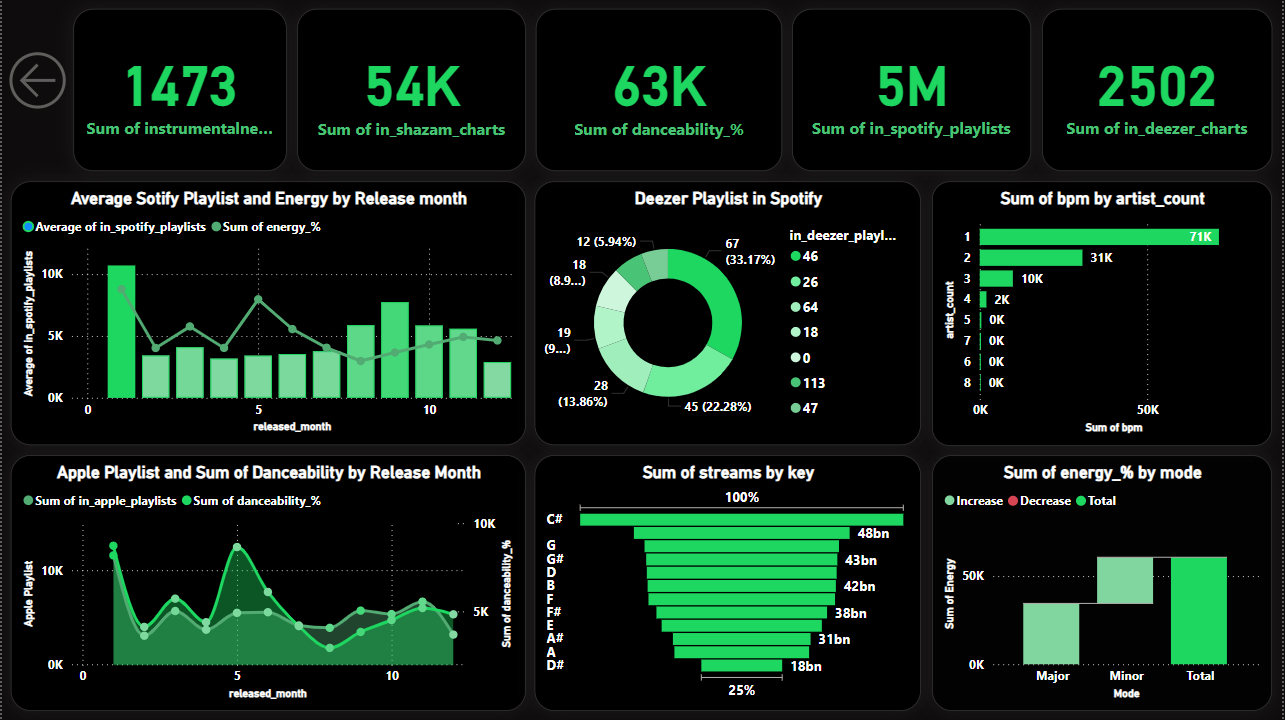

This screenshot's page, from the dashboard's own definition file:
{"tool":"powerbi","page":{"name":"Page 1","canvas":[1280,720],"ordinal":1},"visuals":[{"type":"lineStackedColumnComboChart","title":"Average Sotify Playlist and Energy by Release month","fields":{"Category":["spotify-2023.released_month"],"Y":["Avg(spotify-2023.in_spotify_playlists)"],"Y2":["Sum(spotify-2023.energy_%)"]},"box":[8.8,181.2,515,263.8],"z":0},{"type":"areaChart","title":"Apple Playlist and Sum of Danceability by Release Month","fields":{"Y":["Sum(spotify-2023.in_apple_playlists)"],"Y2":["Sum(spotify-2023.danceability_%)"],"Category":["spotify-2023.released_month"]},"box":[8.8,455,515,256.2],"z":1000},{"type":"waterfallChart","fields":{"Category":["spotify-2023.mode"],"Y":["Sum(spotify-2023.energy_%)"]},"box":[930,455,340,256.2],"z":2000},{"type":"funnel","fields":{"Category":["spotify-2023.key"],"Y":["Sum(spotify-2023.streams)"]},"box":[532.5,455,386.2,256.2],"z":3000},{"type":"donutChart","title":"Deezer Playlist in Spotify","fields":{"Category":["spotify-2023.in_deezer_playlists","spotify-2023.in_spotify_charts"],"Y":["Sum(spotify-2023.in_apple_playlists)"]},"box":[532.9,180.8,386.3,264.4],"z":4000},{"type":"barChart","fields":{"Y":["Sum(spotify-2023.bpm)"],"Category":["spotify-2023.artist_count"]},"box":[930,181.1,340,264.4],"z":4001},{"type":"card","fields":{"Values":["Sum(spotify-2023.danceability_%)"]},"box":[533.3,8.9,246.7,162.2],"z":4002},{"type":"card","fields":{"Values":["Sum(spotify-2023.in_spotify_playlists)"]},"box":[790,8.9,238.9,162.2],"z":4003},{"type":"card","fields":{"Values":["Sum(spotify-2023.in_deezer_charts)"]},"box":[1040,8.9,230,162.2],"z":4004},{"type":"card","fields":{"Values":["Sum(spotify-2023.in_shazam_charts)"]},"box":[294.4,8.9,228.9,162.2],"z":4005},{"type":"card","fields":{"Values":["Sum(spotify-2023.instrumentalness_%)"]},"box":[71.1,8.9,213.3,162.2],"z":4006},{"type":"actionButton","box":[0,0,71.2,160.3],"z":4007}]}

Visuals, with their boxes in screenshot pixels (x1, y1, x2, y2), scaled from the page's 1280x720 canvas onto the 1285x720 screenshot:
"Average Sotify Playlist and Energy by Release month" lineStackedColumnComboChart: (9, 181, 526, 445)
"Apple Playlist and Sum of Danceability by Release Month" areaChart: (9, 455, 526, 711)
waterfallChart - spotify-2023.mode x Sum(spotify-2023.energy_%): (934, 455, 1275, 711)
funnel - spotify-2023.key x Sum(spotify-2023.streams): (535, 455, 922, 711)
"Deezer Playlist in Spotify" donutChart: (535, 181, 923, 445)
barChart - Sum(spotify-2023.bpm) x spotify-2023.artist_count: (934, 181, 1275, 446)
card - Sum(spotify-2023.danceability_%): (535, 9, 783, 171)
card - Sum(spotify-2023.in_spotify_playlists): (793, 9, 1033, 171)
card - Sum(spotify-2023.in_deezer_charts): (1044, 9, 1275, 171)
card - Sum(spotify-2023.in_shazam_charts): (296, 9, 525, 171)
card - Sum(spotify-2023.instrumentalness_%): (71, 9, 286, 171)
actionButton: (0, 0, 71, 160)
